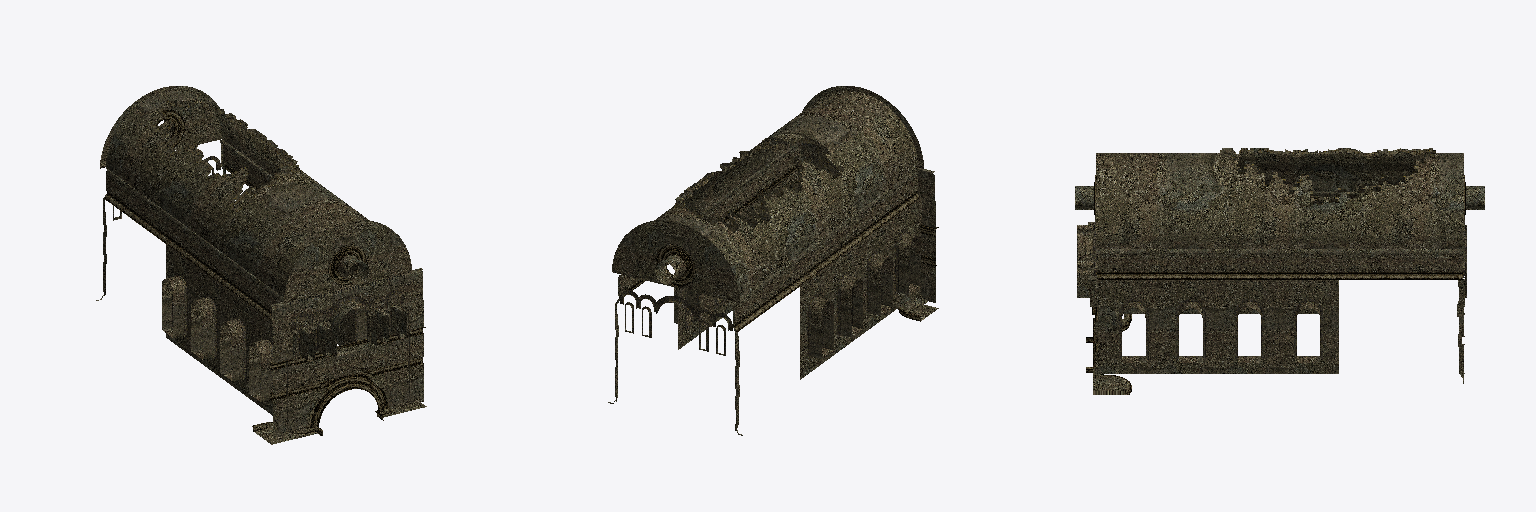
3 renders of one model, left to right at view 1: azimuth 30°, elevation 25°; view 2: azimuth 150°, elevation 25°; view 3: azimuth 270°, elevation 25°, orthographic.
Visible parts, largest first — view 1: mesh9, mesh7, mesh8, mesh4, mesh5, mesh6; view 2: mesh9, mesh7, mesh8, mesh4, mesh5, mesh6; view 3: mesh9, mesh7, mesh8, mesh4, mesh5, mesh6.
Boxes of the visible parts, <box> form: mesh9: <box>106,91,426,444</box>; mesh7: <box>100,86,411,310</box>; mesh8: <box>104,110,425,435</box>; mesh4: <box>113,156,403,391</box>; mesh5: <box>150,101,299,211</box>; mesh6: <box>96,109,225,300</box>; mesh9: <box>654,91,938,379</box>; mesh7: <box>612,86,923,323</box>; mesh8: <box>616,166,938,331</box>; mesh4: <box>620,156,909,359</box>; mesh5: <box>674,138,843,231</box>; mesh6: <box>608,144,927,435</box>; mesh9: <box>1075,148,1484,394</box>; mesh7: <box>1097,192,1462,271</box>; mesh8: <box>1086,175,1465,394</box>; mesh4: <box>1093,221,1466,358</box>; mesh5: <box>1220,148,1435,204</box>; mesh6: <box>1096,276,1464,383</box>.
Bounding box in the file's own units: 13.73 × 17.13 × 31.4.
10 materials, 8 textured.